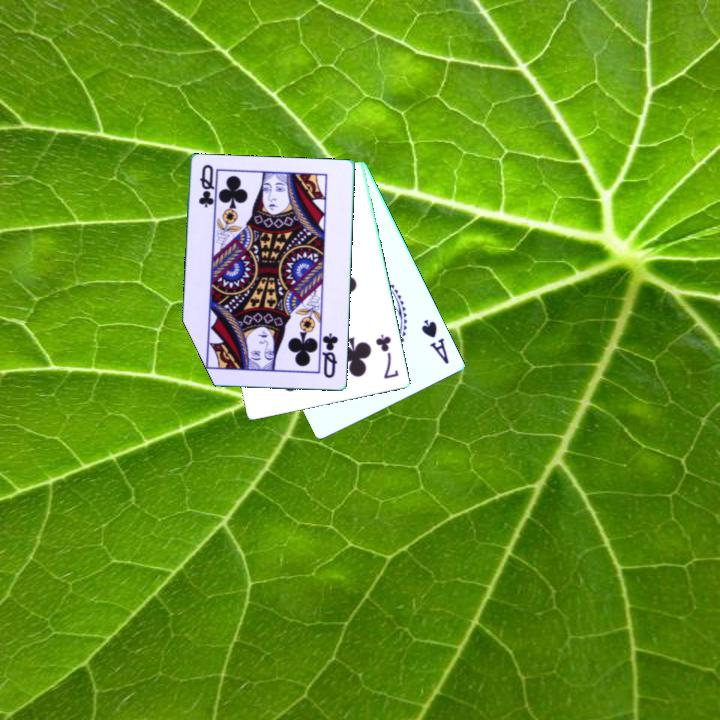7c: (372, 331, 402, 382)
As: (418, 317, 452, 367)
Qc: (317, 328, 341, 381), (195, 161, 217, 211)
